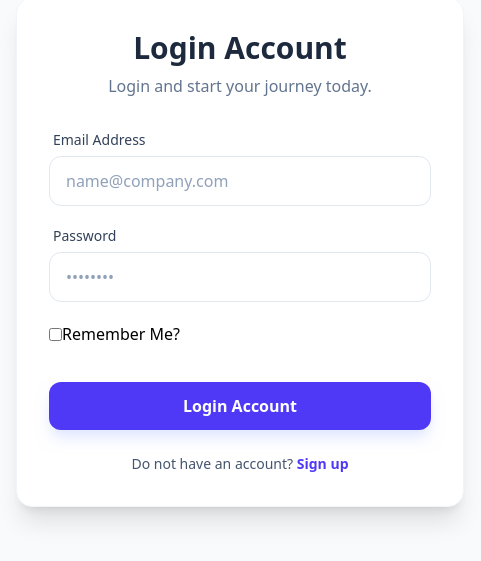
Test case: Login Integration Test › Login Fail › Validation Error › When Email is invalid,show the Error message under Email field
Type "invalidEmail" into the field with placeholder "name@company.com".
click(240, 181); type("invalidEmail")  # box left=49, top=156, right=431, bottom=206
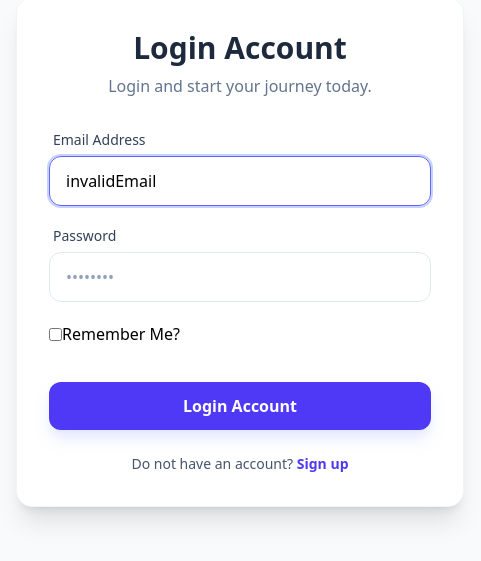
Type "Awyd899?" into the password field with placeholder "••••••••".
click(240, 277); type("Awyd899?")  # box left=49, top=252, right=431, bottom=302
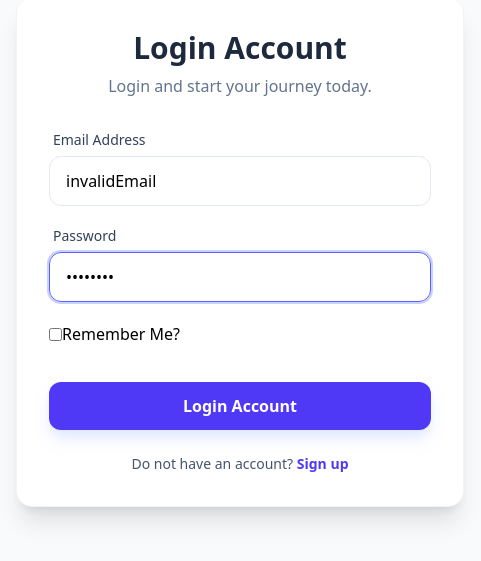
Click the button "Login Account".
click(240, 406)  # box left=49, top=382, right=431, bottom=430
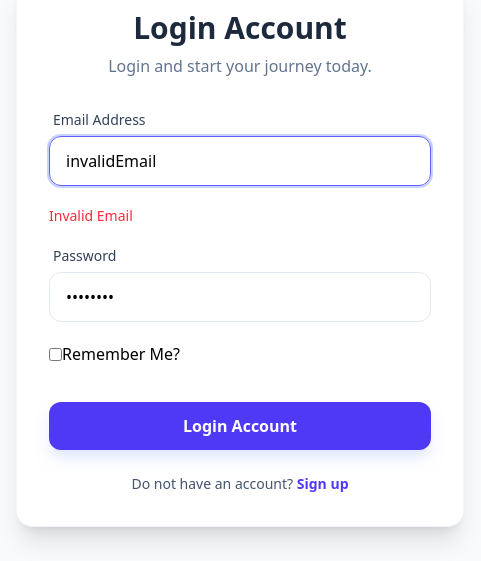
Expected: the text "Invalid Email" is shown, left=49, top=206, right=133, bottom=225
